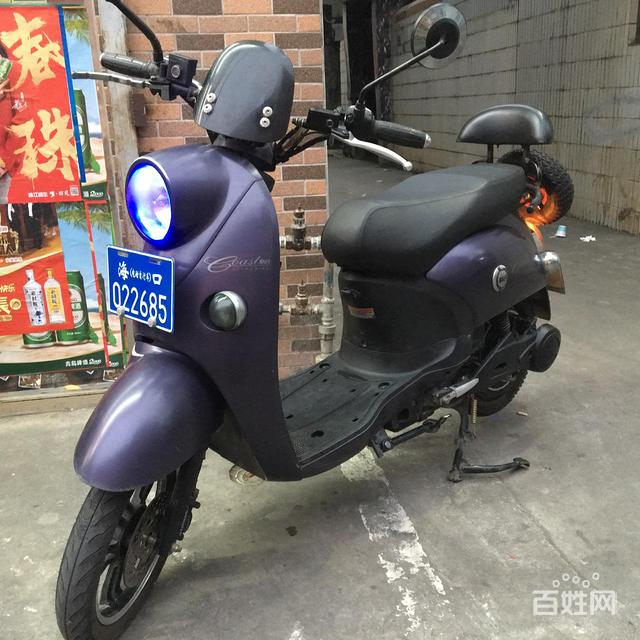电动车: (52, 1, 581, 632)
